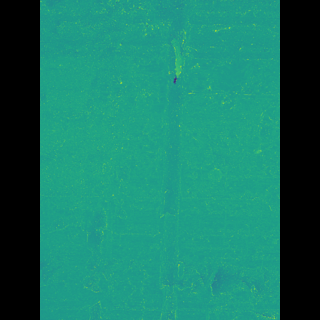Loch: (69, 0, 248, 219), (91, 68, 140, 319), (155, 0, 184, 320)
